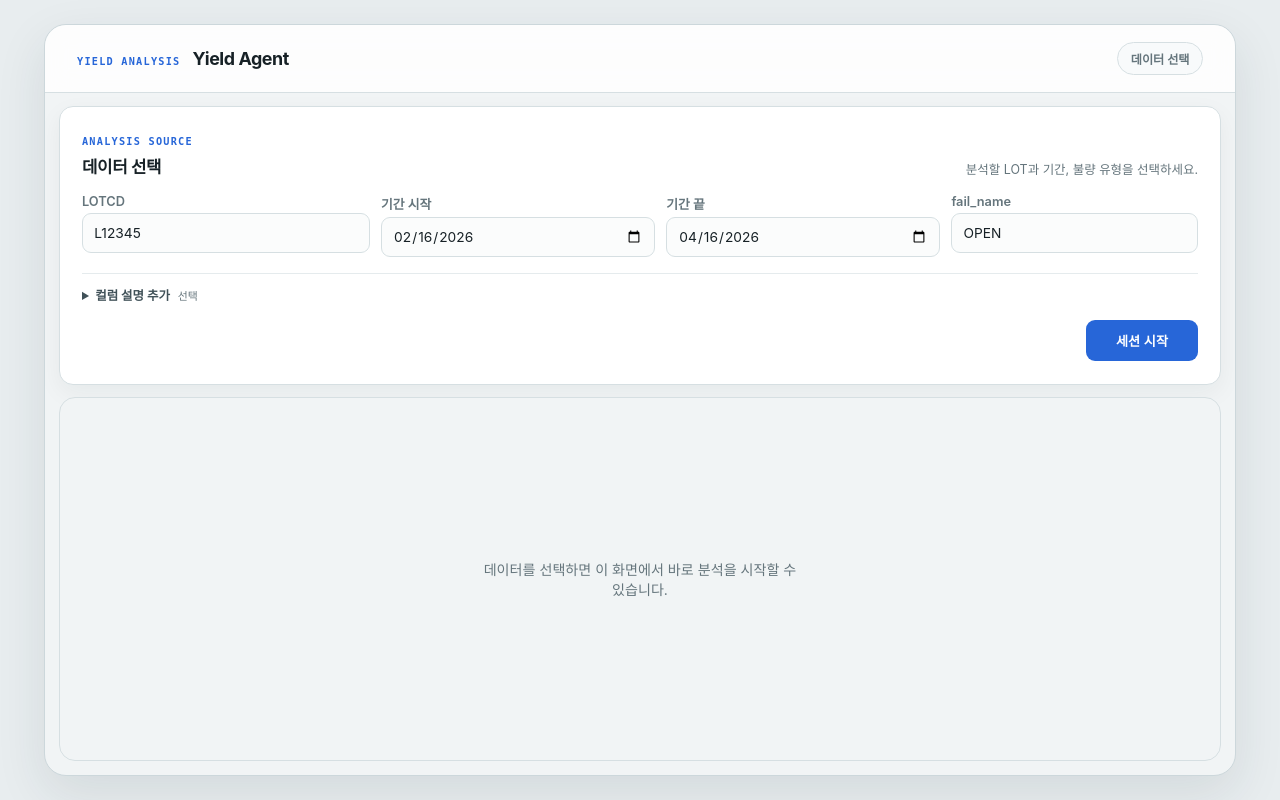
Test: App workspace › makes a best-effort DELETE request when the page unloads
The width and height of the screenshot is (1280, 800).
Click the button "세션 시작". click: x=1142, y=341
box: [1086,320,1198,361]
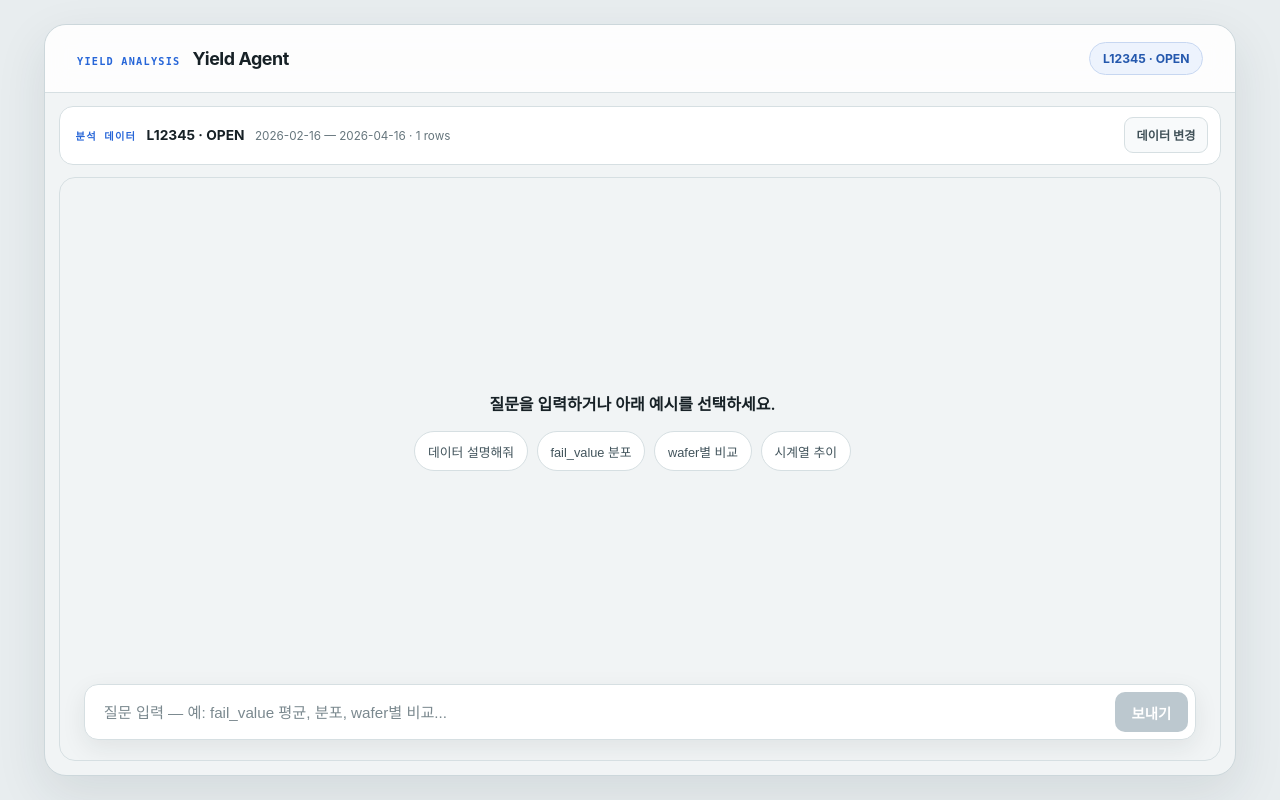
Expected: the text named "현재 데이터" reads "L12345 · OPEN", [1090,42,1203,75]
